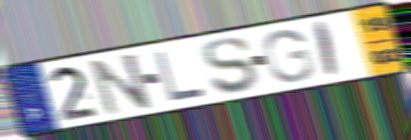2: (49, 64, 99, 123)
G: (261, 27, 315, 83)
I: (314, 19, 341, 80)
L: (153, 49, 208, 103)
N: (88, 51, 155, 117)
S: (201, 35, 259, 97)
